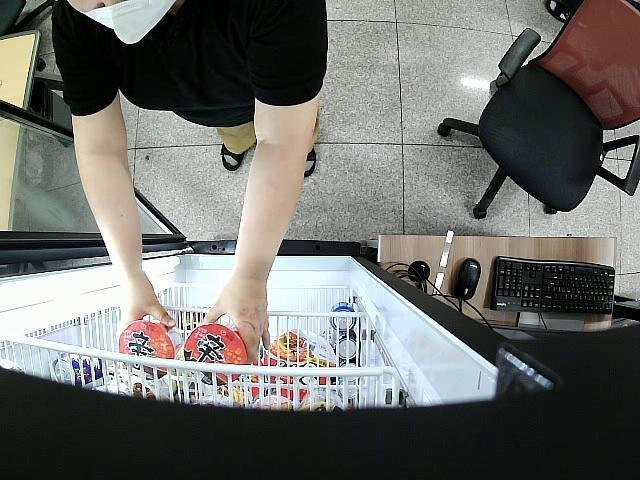02_shinRamen_S: (184, 323, 247, 386), (119, 318, 182, 380)
